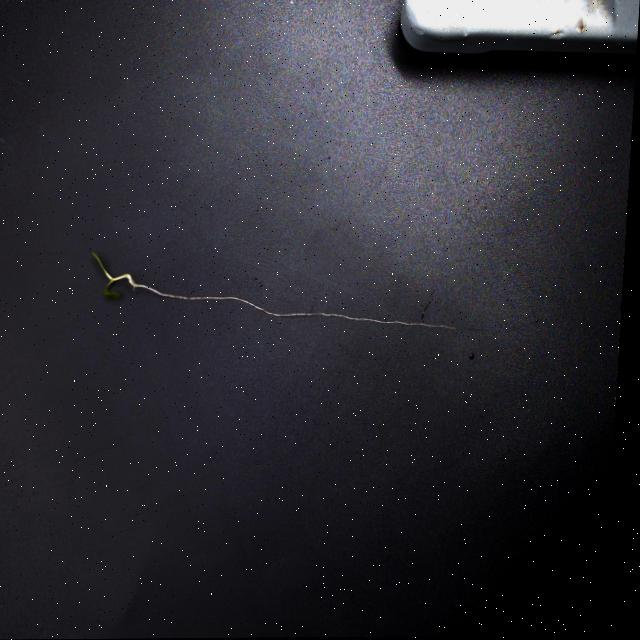leaf: (83, 244, 104, 277)
root: (131, 273, 478, 335)
steb: (103, 265, 137, 293)
